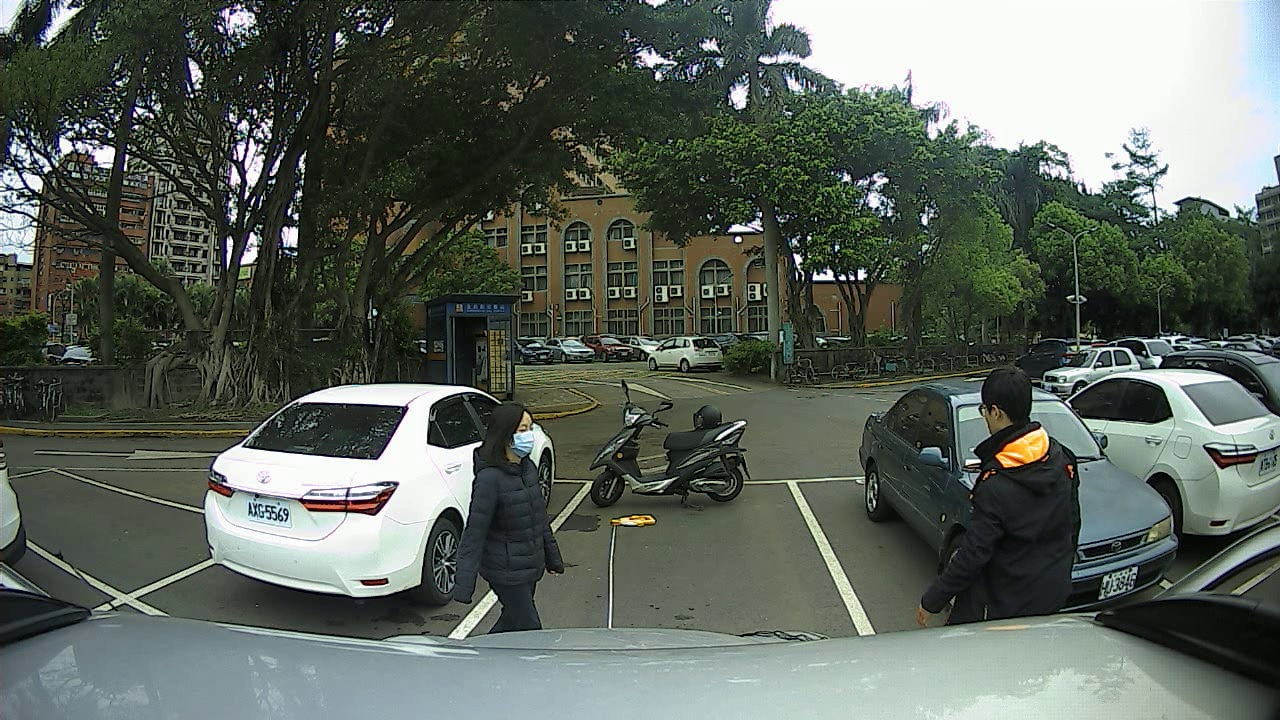car: (189, 365, 480, 592), (1072, 359, 1278, 529)
motorcycle: (578, 372, 768, 519)
person: (930, 371, 1092, 633), (445, 400, 566, 650)
